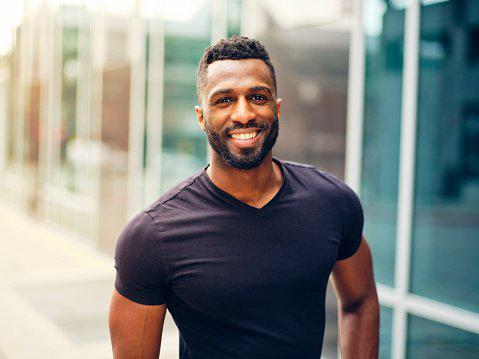Sober: (207, 62, 273, 165)
